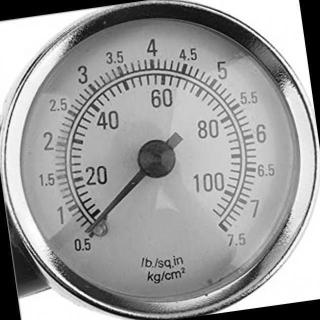gauge: (0, 0, 320, 320), (202, 198, 252, 259), (64, 204, 122, 254), (137, 140, 176, 178), (83, 224, 97, 238)
